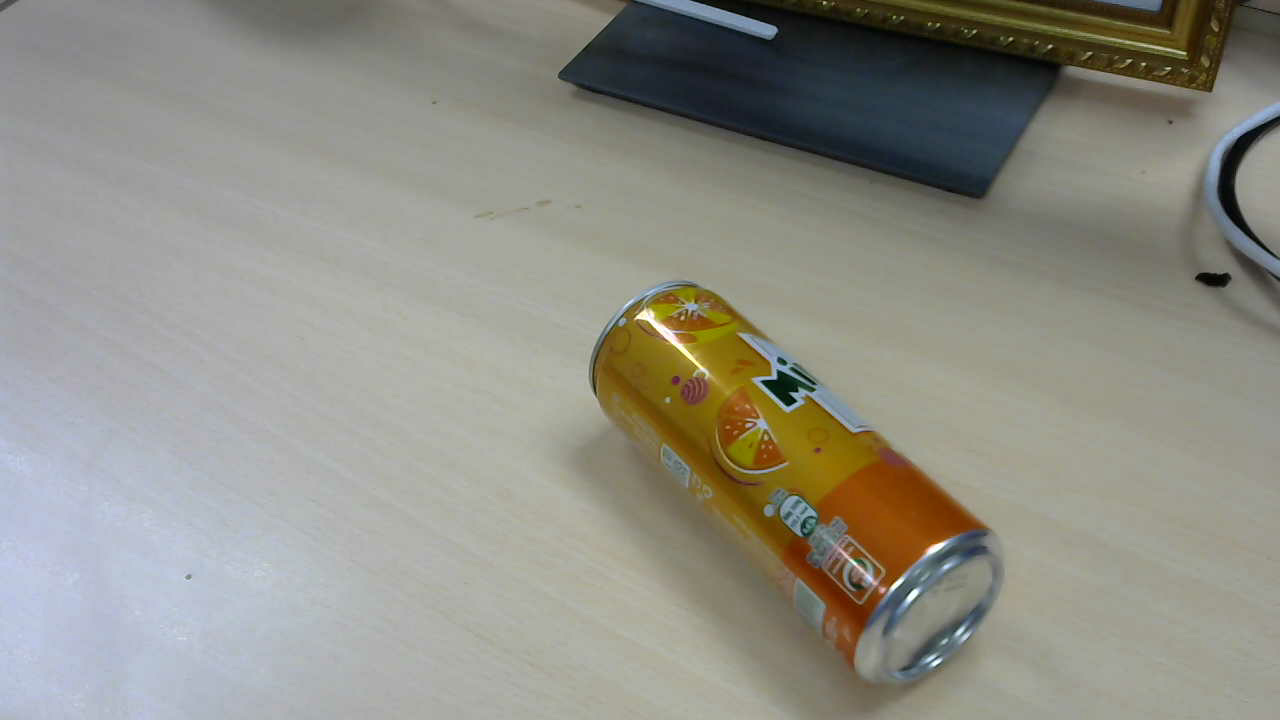Mirinda: (596, 285, 1009, 693)
